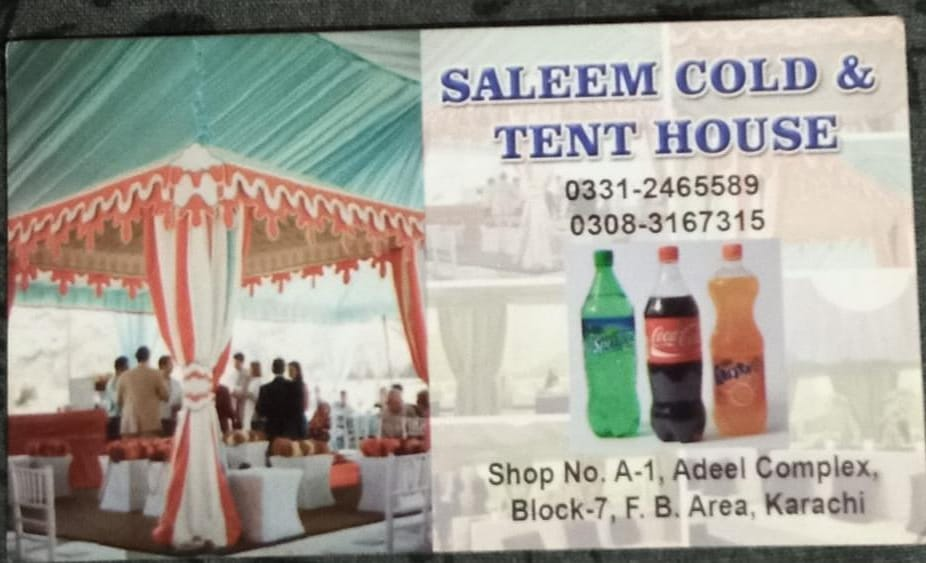alphabetical: (441, 59, 657, 104)
numerical: (561, 203, 771, 238), (560, 168, 767, 203)
